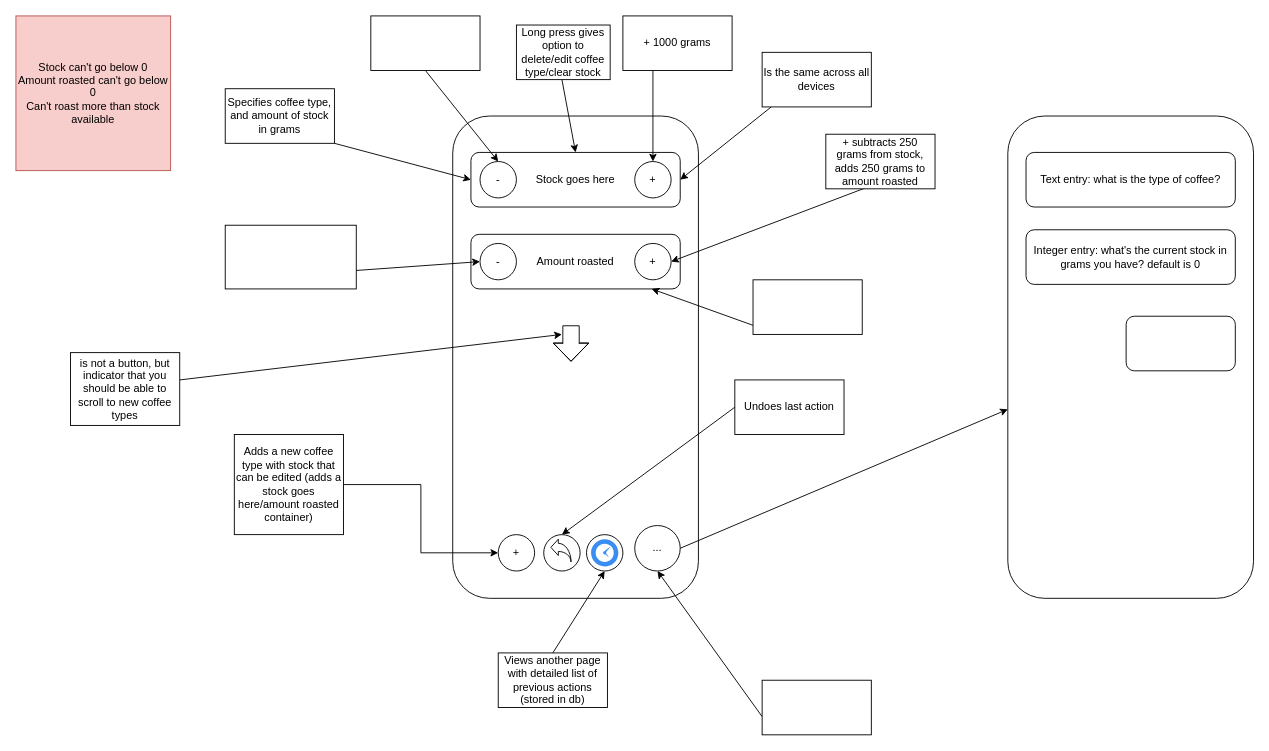
Image size: 1269x751. Some labels were removed from this diagram. The centre of each missing label's shape, as x and y in pixels:
"- 1000 grams" belongs at (425,43).
"- subtracts 250 grams from amount roasted, adds 250 grams to stock" belongs at (290,256).
"Clicking reveals the 3 buttons on the left" belongs at (816,707).
"Gets cleared after each session" belongs at (807,306).
"Submit" belongs at (1180,343).
